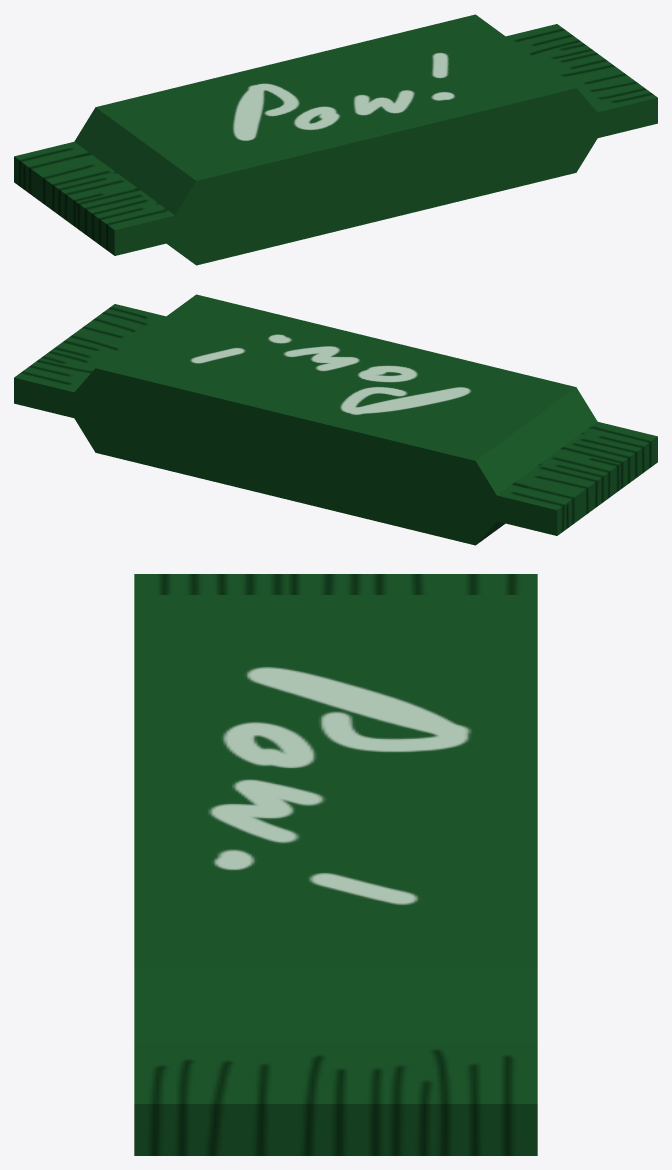
Rendered from candy_bar_pow.fbx.
3 renders of one model, top to bottom at view 1: azimuth 30°, elevation 25°; view 2: azimuth 150°, elevation 25°; view 3: azimuth 270°, elevation 25°, orthographic. The views are drawn at different scales.
Parts seen in each view (by area): view 1: Candy_Bar; view 2: Candy_Bar; view 3: Candy_Bar.
Boxes of the visible parts, x1=… form: Candy_Bar: x1=14, y1=14, x2=657, y2=265; Candy_Bar: x1=14, y1=294, x2=657, y2=545; Candy_Bar: x1=134, y1=574, x2=537, y2=1155.
Bounding box in the file's own units: 26.73 × 3.98 × 8.59.
1 material, 1 textured.
